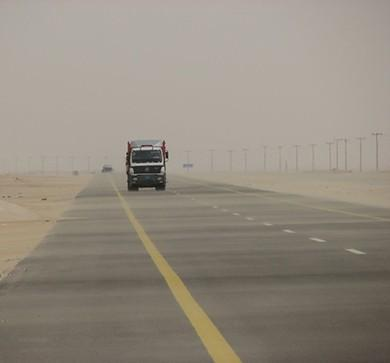car: (122, 134, 175, 198)
